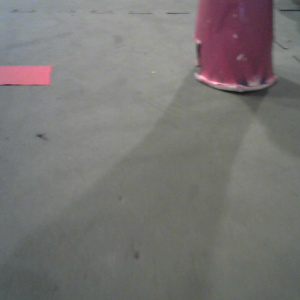right: (189, 1, 281, 96)
